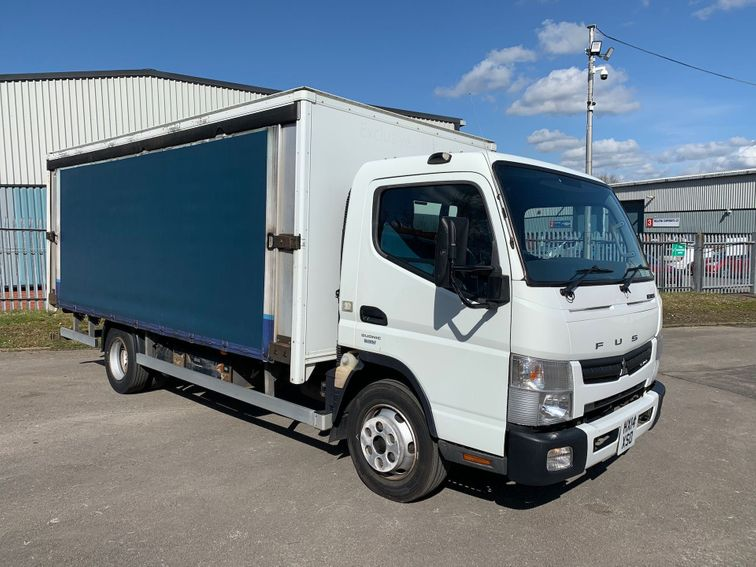Semi: (43, 85, 665, 504)
